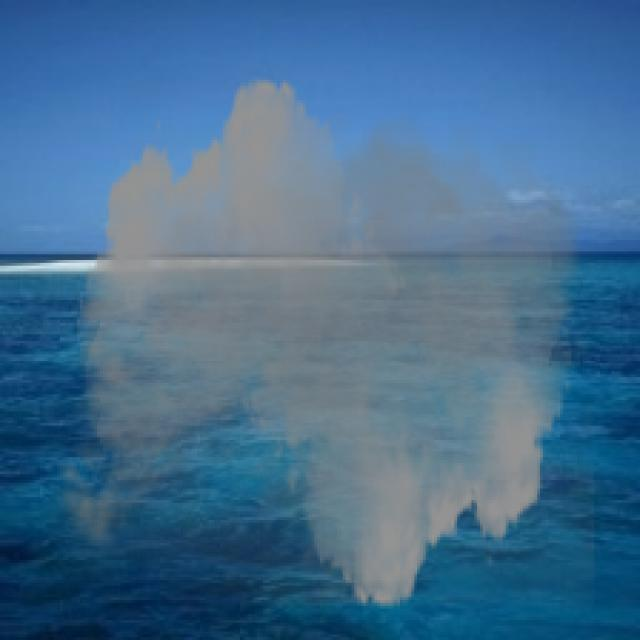Smoke: (39, 60, 594, 626)
